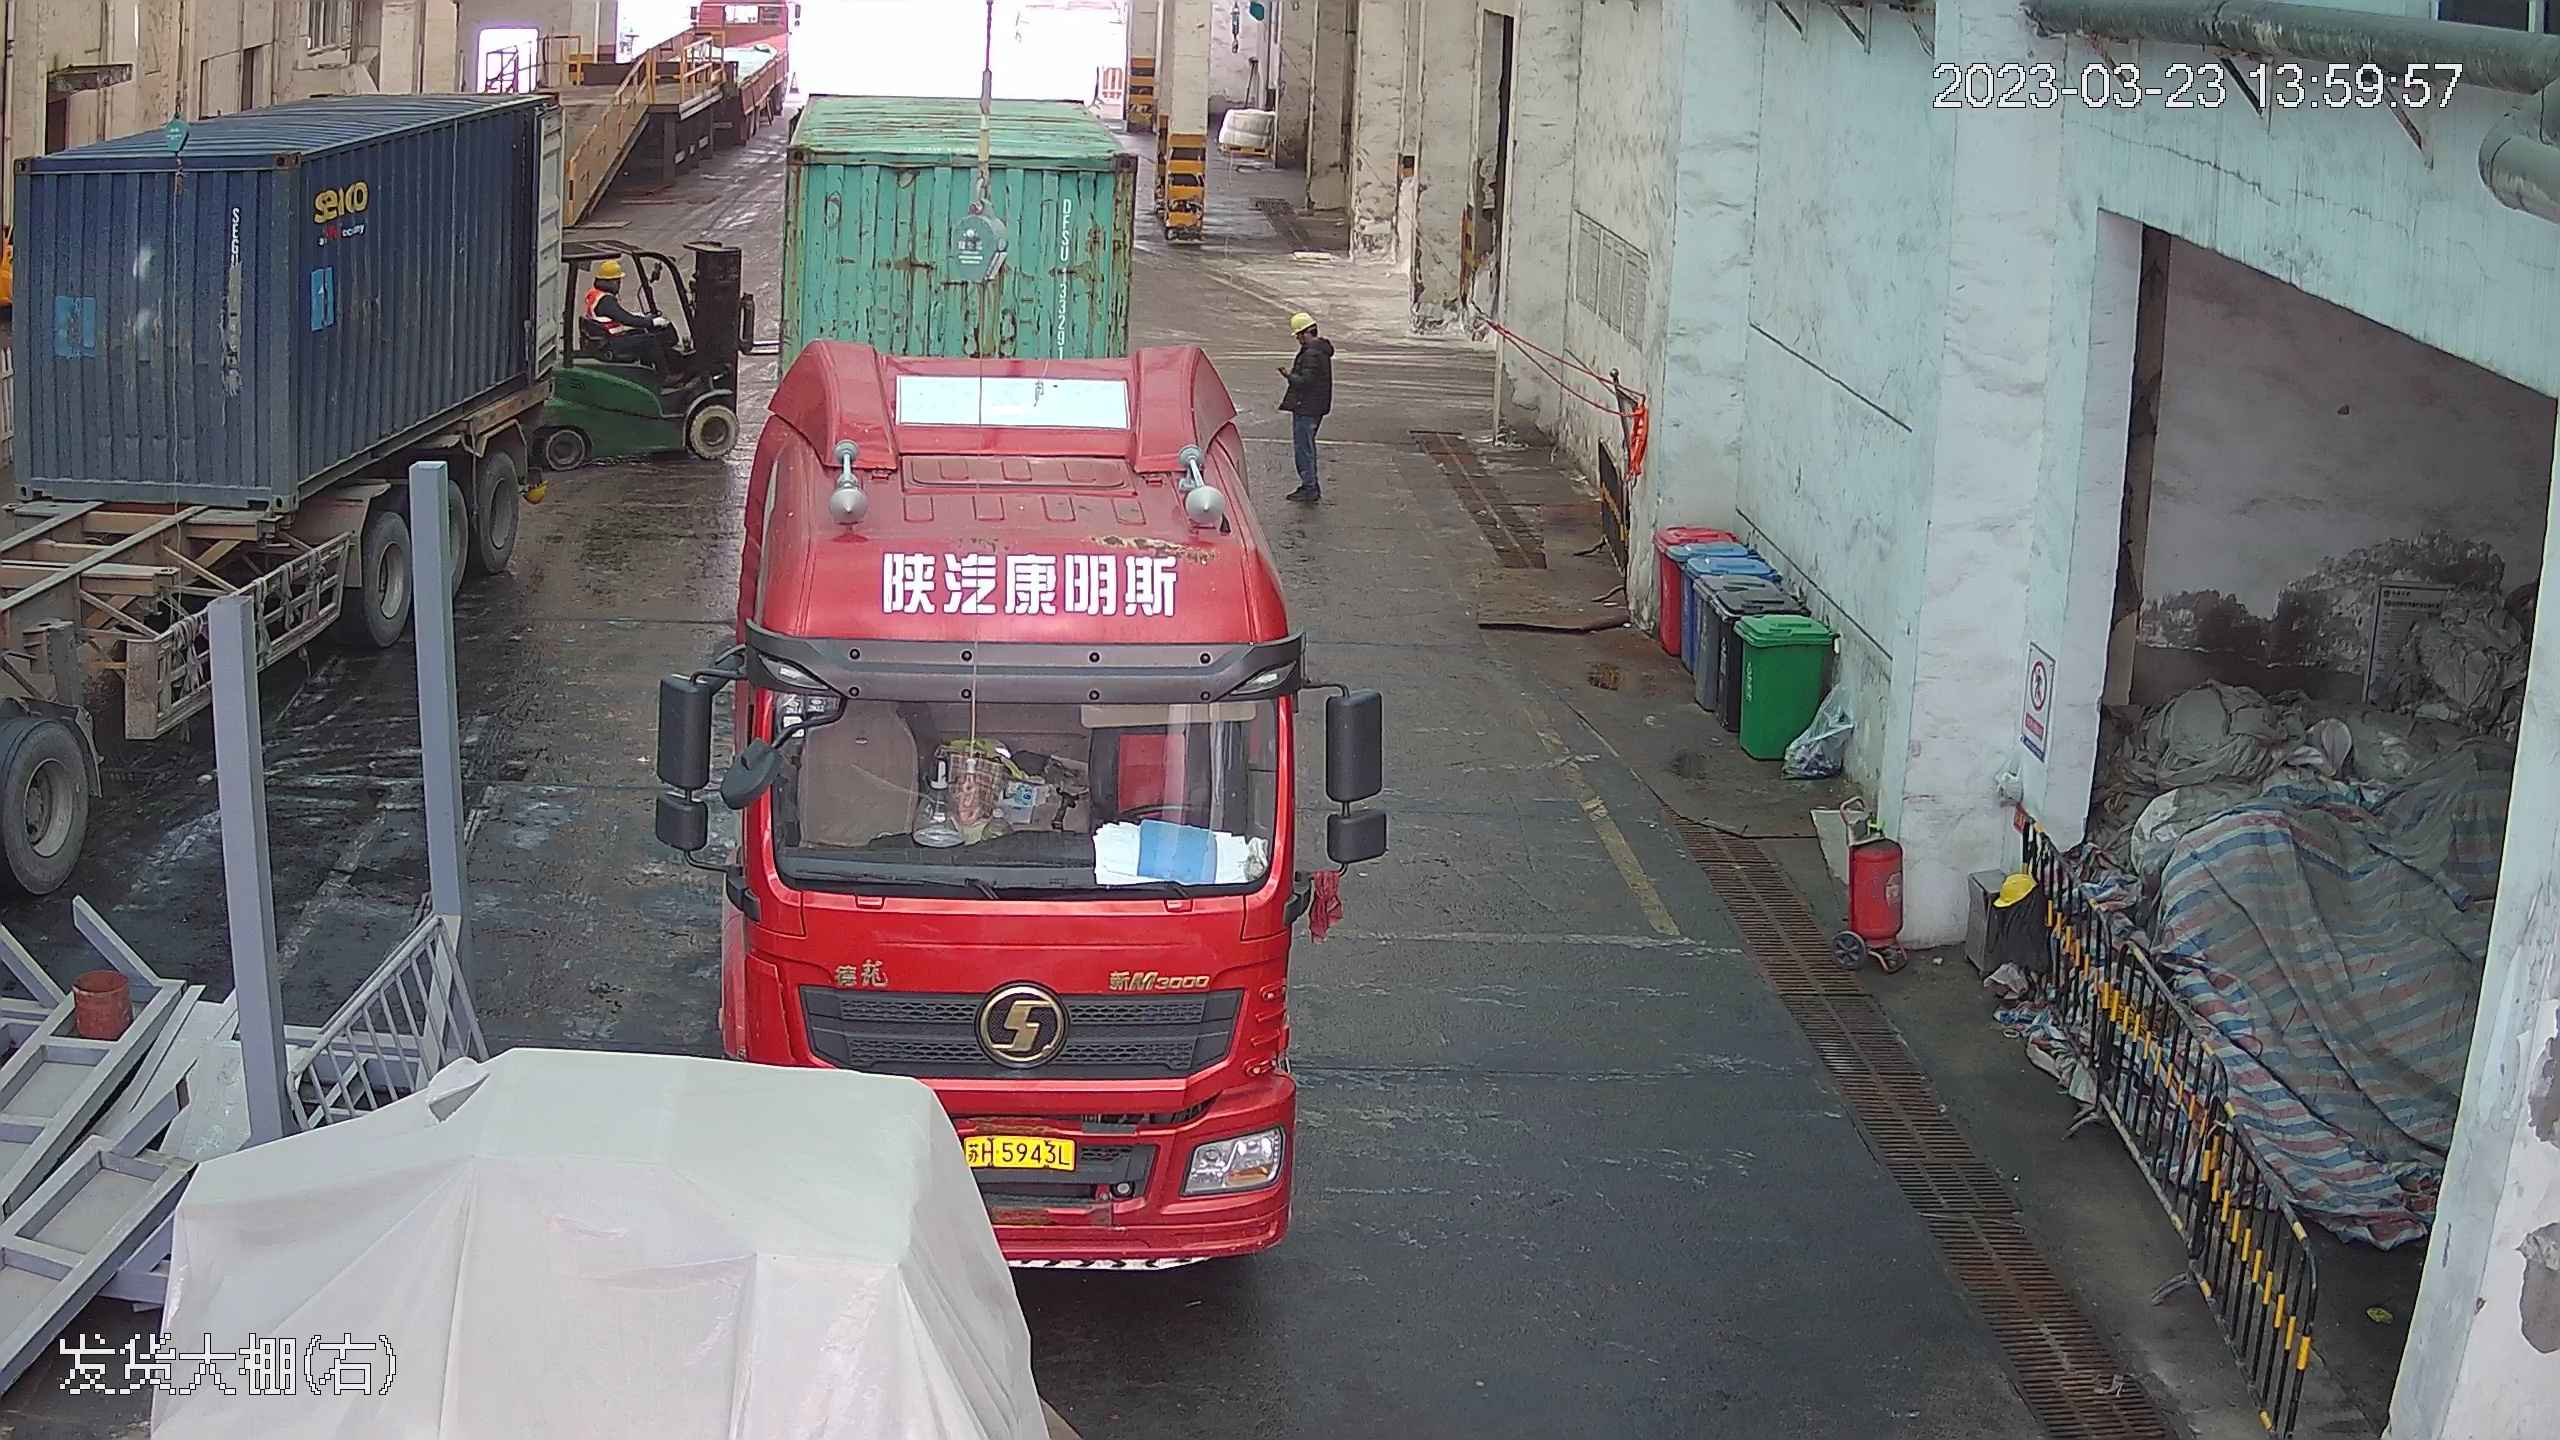head: (1283, 306, 1335, 374), (584, 256, 632, 311)
helmet: (1284, 305, 1317, 333), (597, 255, 624, 277)
people: (1274, 303, 1340, 510), (588, 252, 680, 375)
truck: (697, 54, 1334, 1254), (2, 3, 571, 1113)
